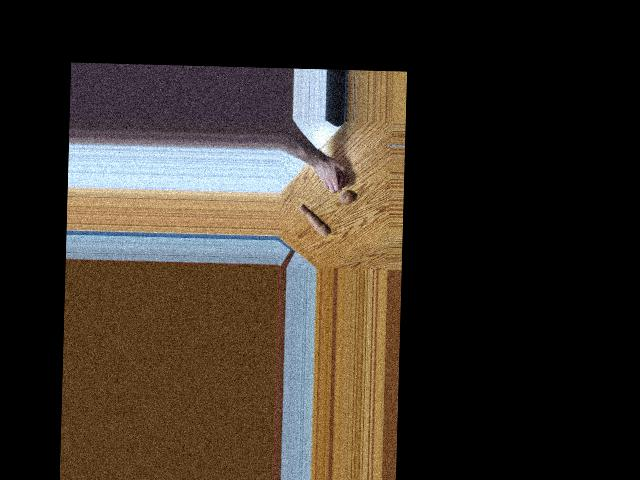onion: (335, 171, 347, 187)
